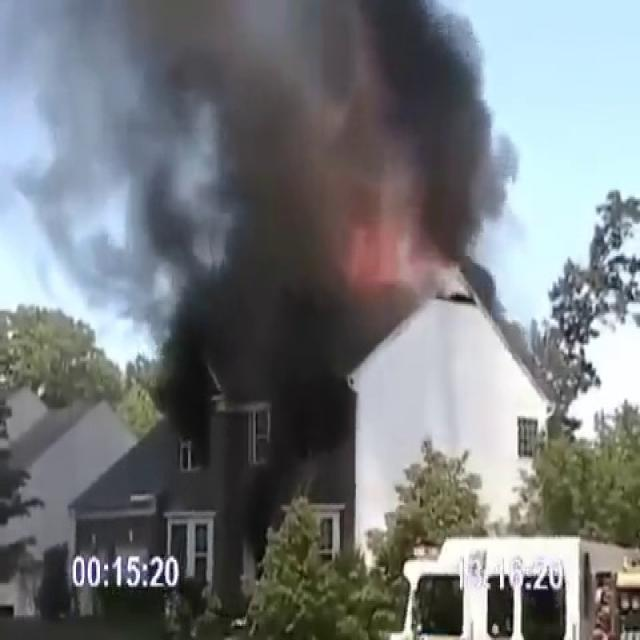Smoke: (25, 1, 518, 458)
